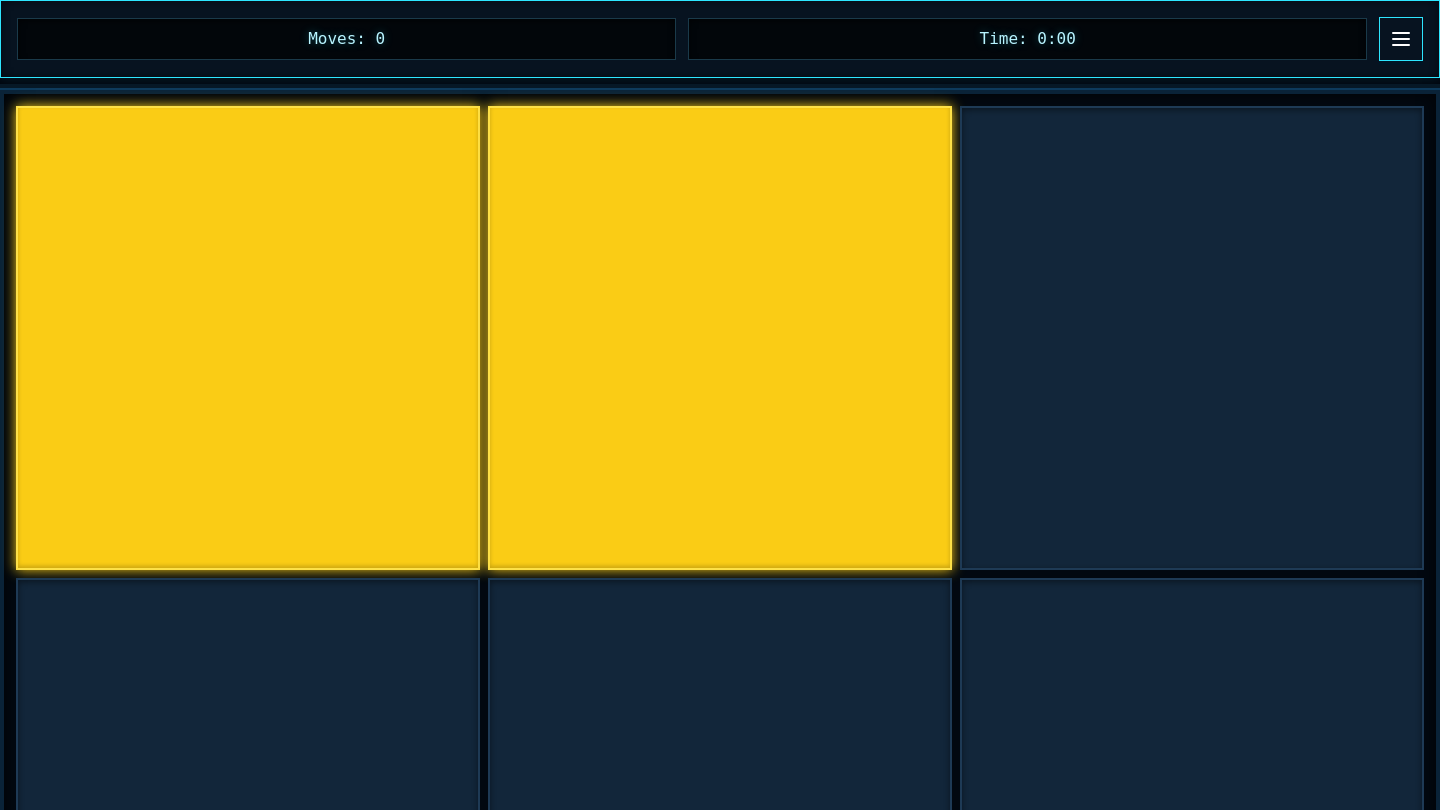
Test: GameScreen › resets the board when Reset Game is pressed
What coordinates should you click on to do the following:
click the button named "Row 1, Column 1"
I would click on:
 (248, 338)
Its box is [16, 106, 480, 570].
Wait 100 ms
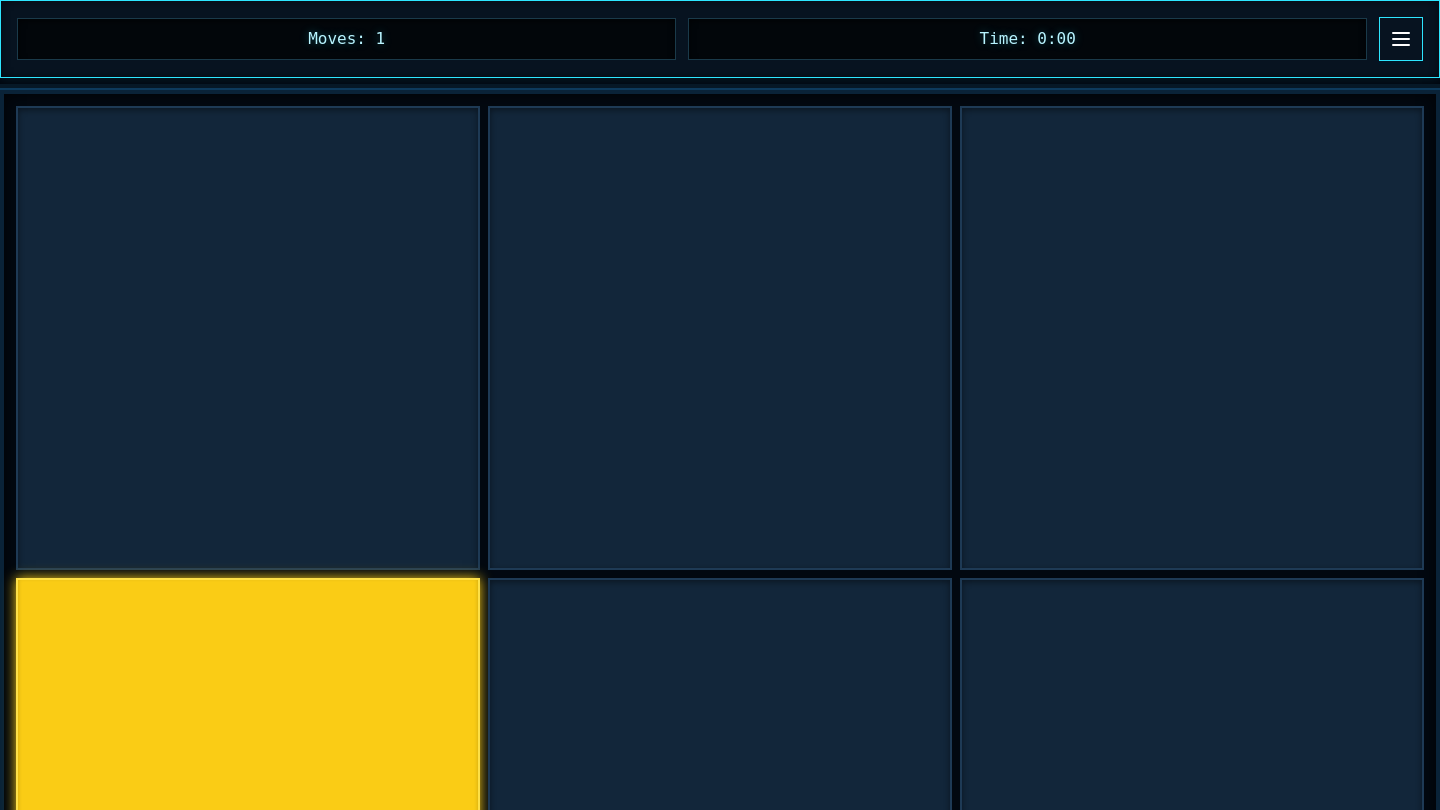
Now the text "Moves: 1" is shown, box [17, 18, 676, 60]
What coordinates should you click on to do the following:
click the button named "Open game menu"
I would click on:
 (1401, 39)
Its box is [1379, 17, 1423, 61].
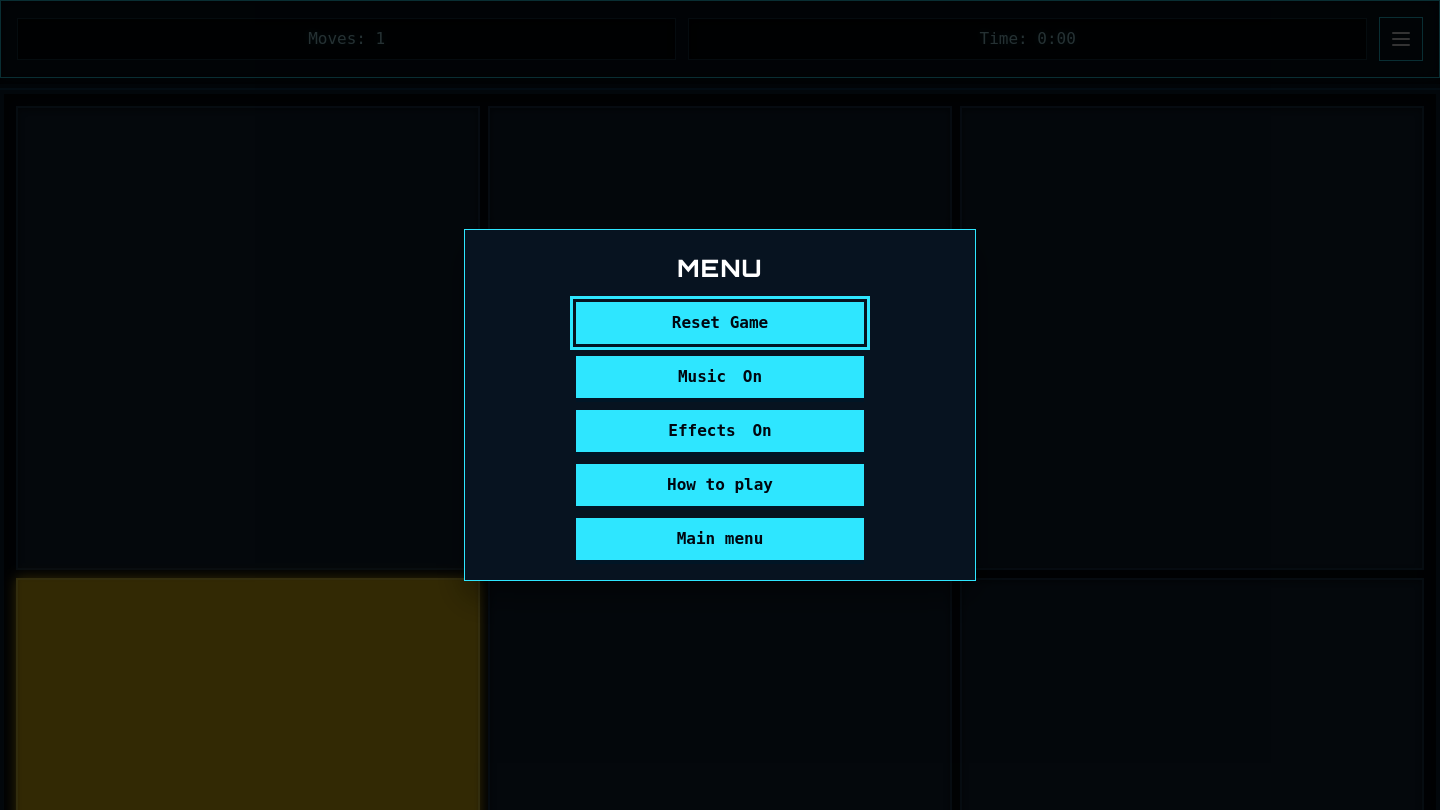
What coordinates should you click on to do the following:
click the button "Reset Game"
I would click on:
 (720, 323)
Its box is [576, 302, 864, 344].
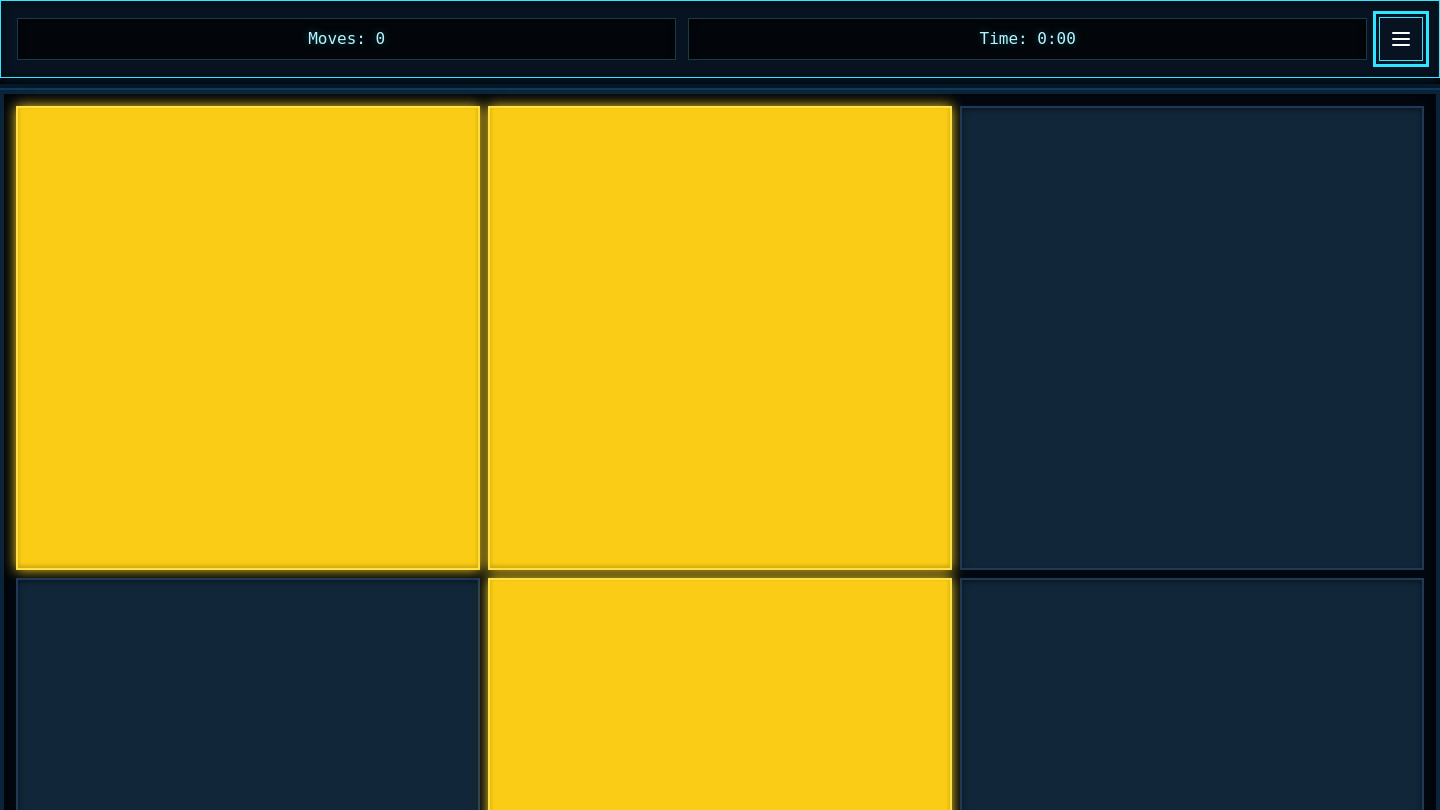
Now the dialog is gone
Now the text "Moves: 0" is shown, box [17, 18, 676, 60]
